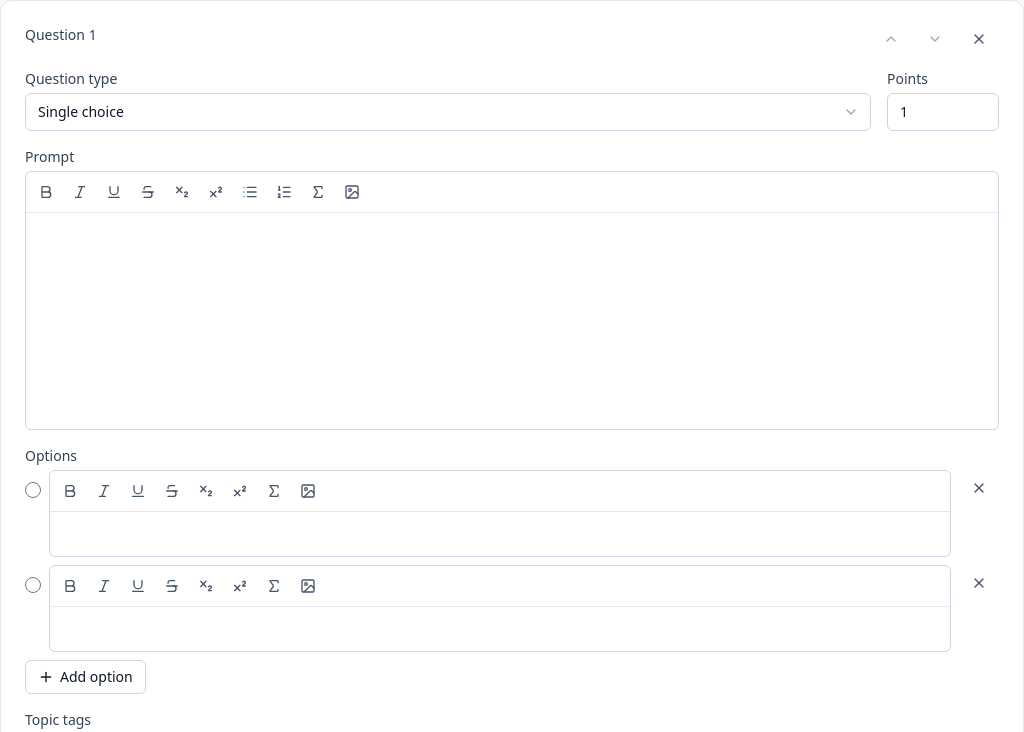
it: QuestionEditor with image-based types › switching to a hotspot seeds an empty image config and offers the upload
The image size is (1024, 732).
Select "Hotspot" in the dropdown labelled "Question type" at (448, 112), box left=25, top=93, right=871, bottom=131
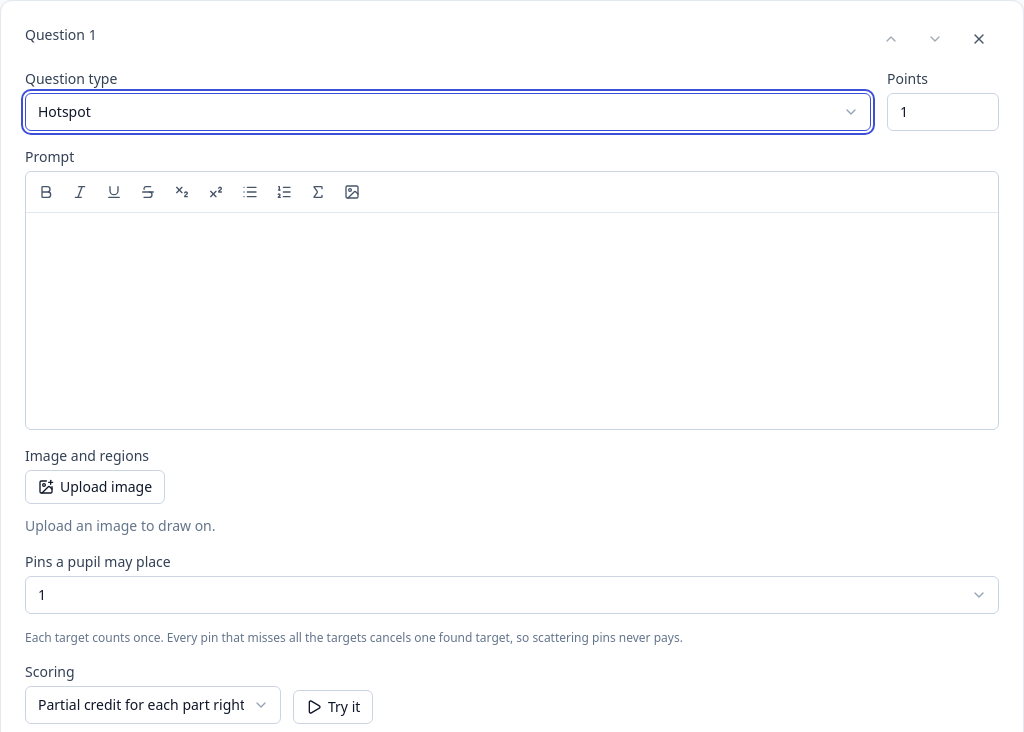
Expected: the button "Upload image" is shown, left=25, top=470, right=165, bottom=504
Select "Label the diagram" in the dropdown labelled "Question type" at (448, 112), box left=25, top=93, right=871, bottom=131
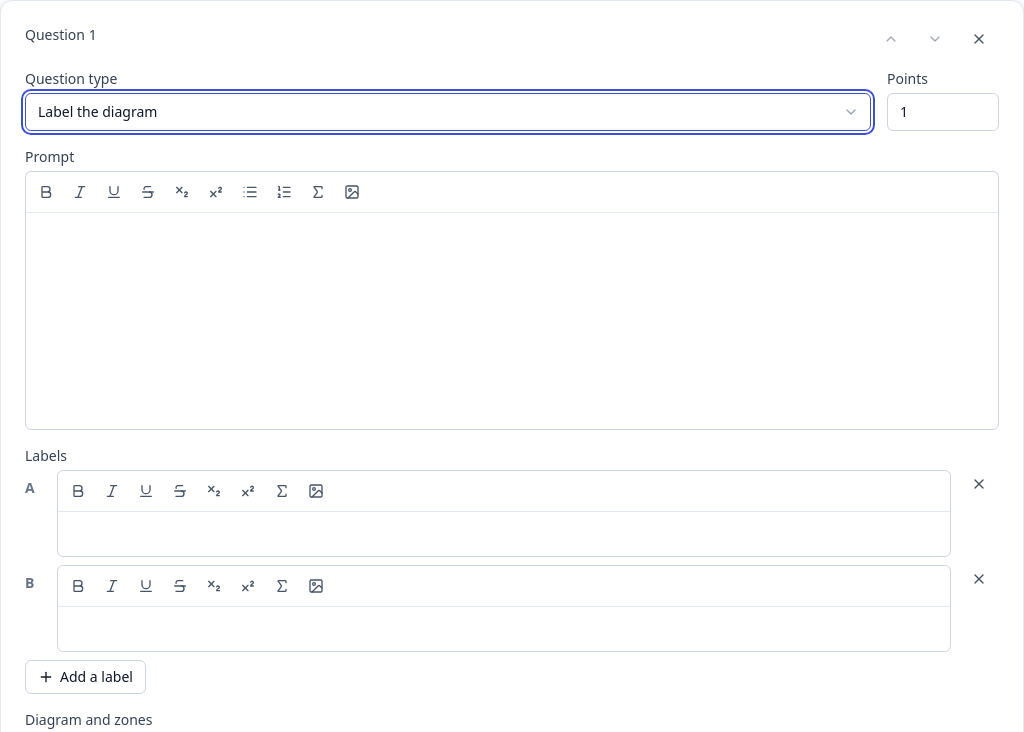
Expected: the button "Add a label" is shown, left=25, top=660, right=146, bottom=694
